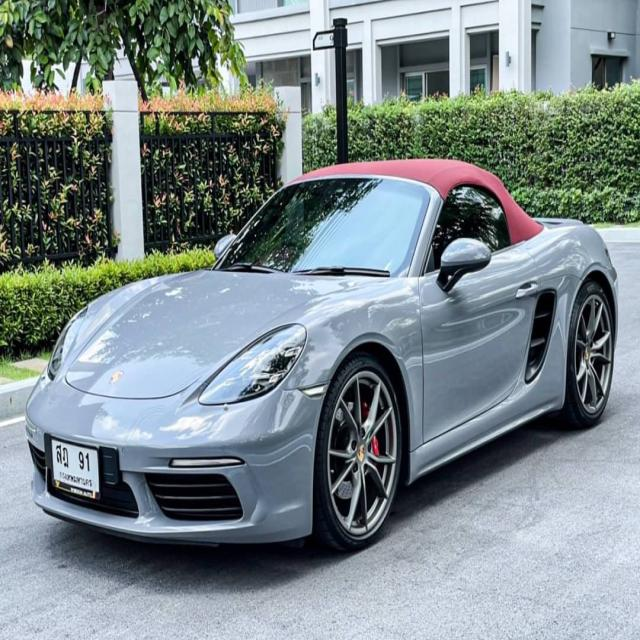license_plate: (47, 431, 104, 502)
